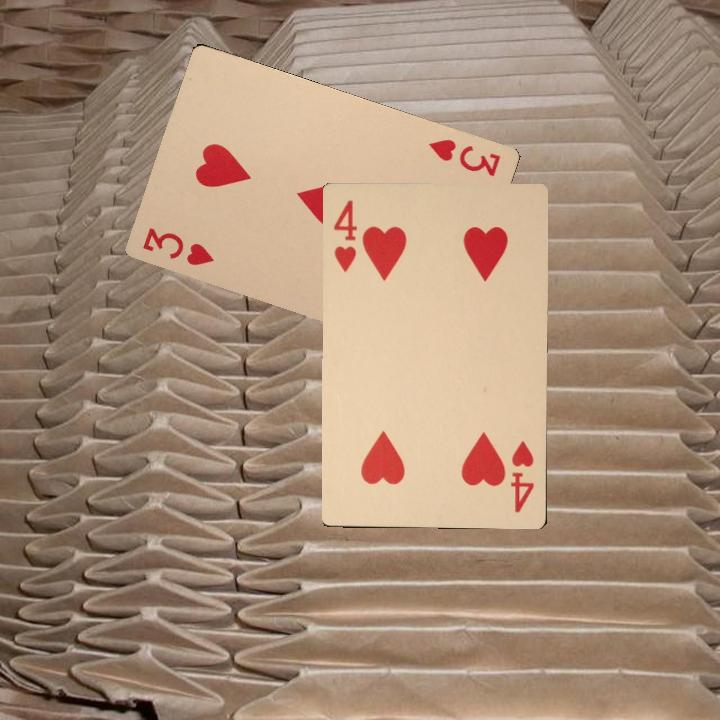3h: (138, 223, 217, 268), (425, 135, 503, 179)
4h: (506, 437, 537, 515), (329, 196, 360, 274)
